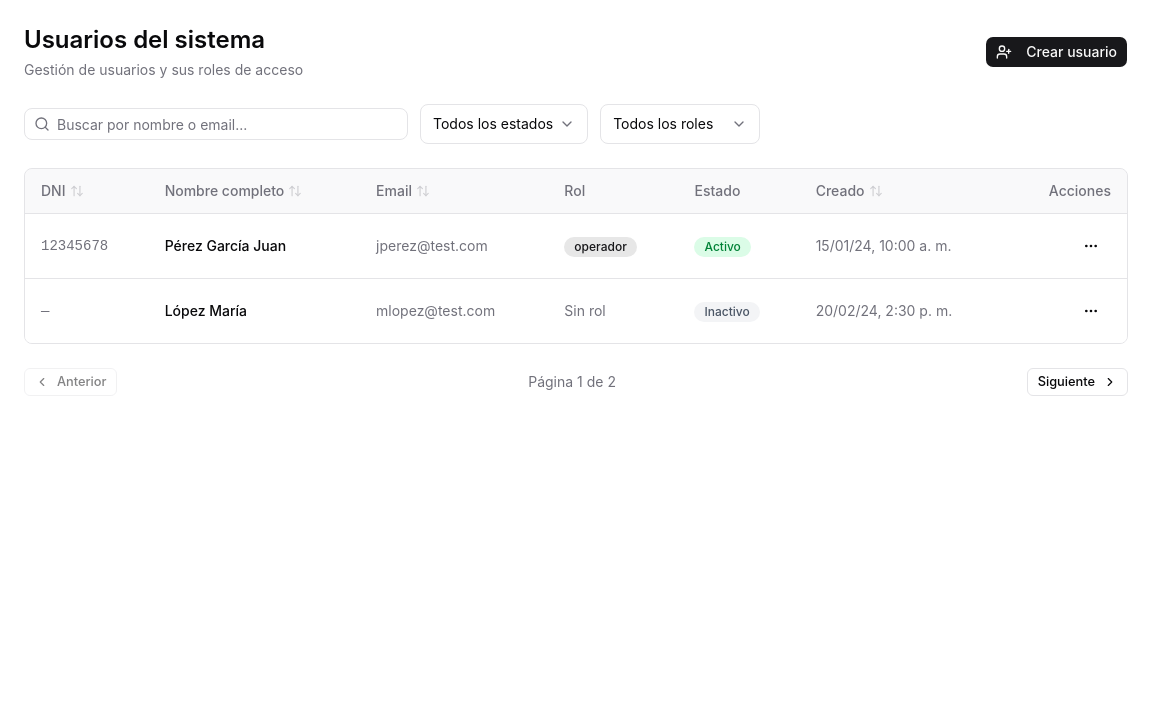
it: PaginaUsuarios › click en editar abre modal de edición
// El trigger del DropdownMenu usa aria-label dinámico por usuario
Click the button named "acciones para".
click(1091, 246)  # box [1071,226,1111,266]
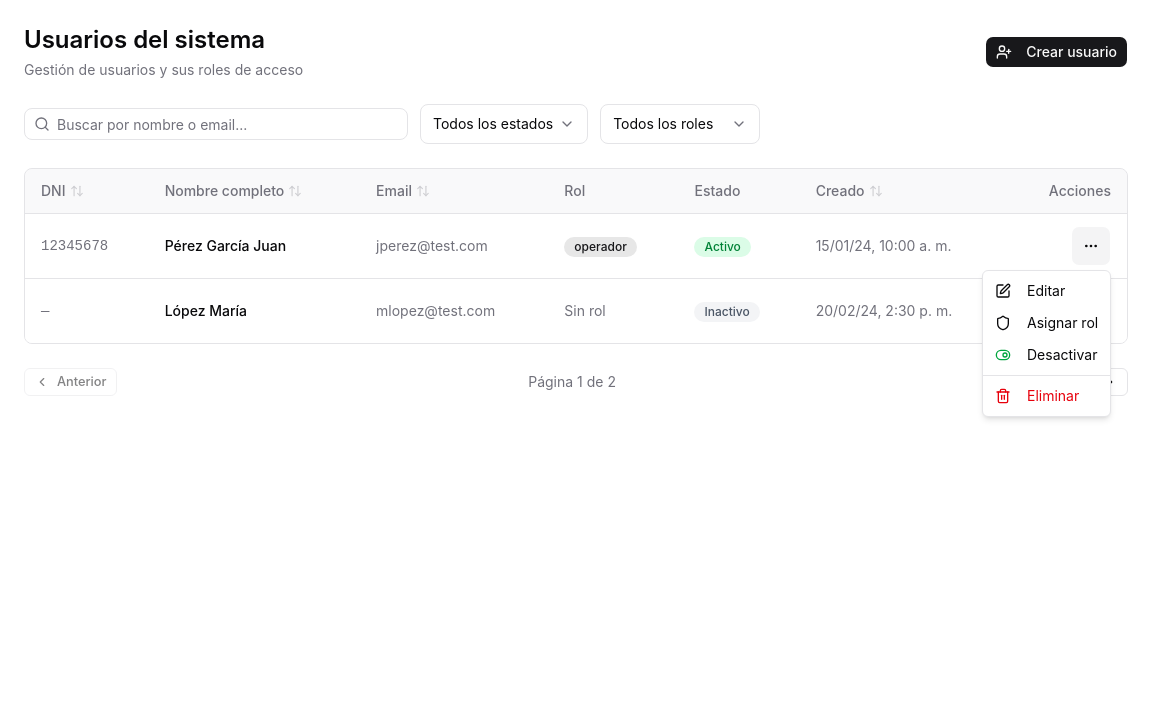
Expected: the menu item "Editar" is shown
Click the menu item "Editar".
click(1030, 290)  # box [995,282,1065,299]
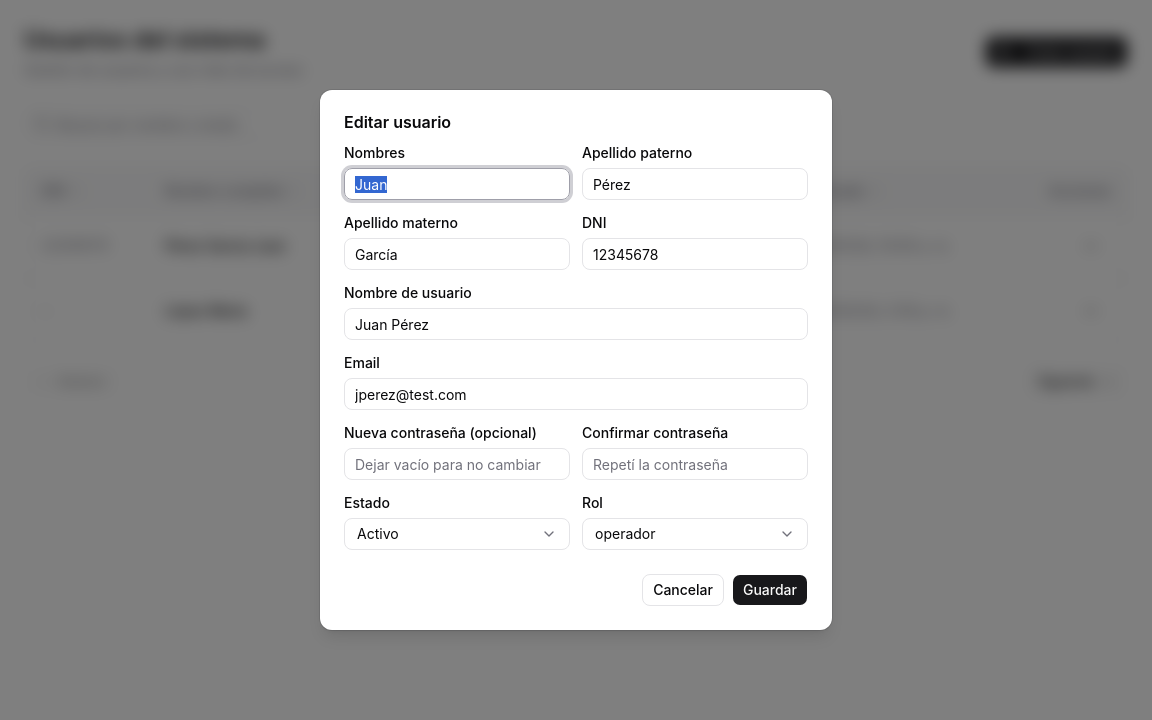
Expected: the heading "Editar usuario" is shown, [344,112,451,132]
